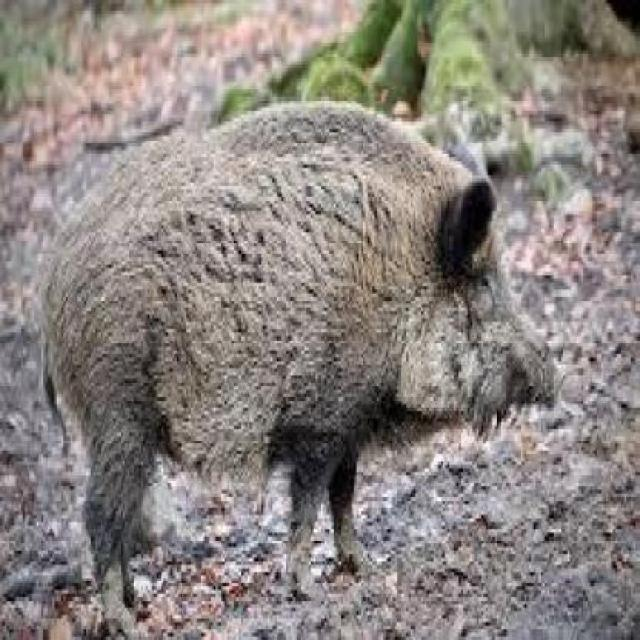wildboar: (27, 87, 560, 640)
